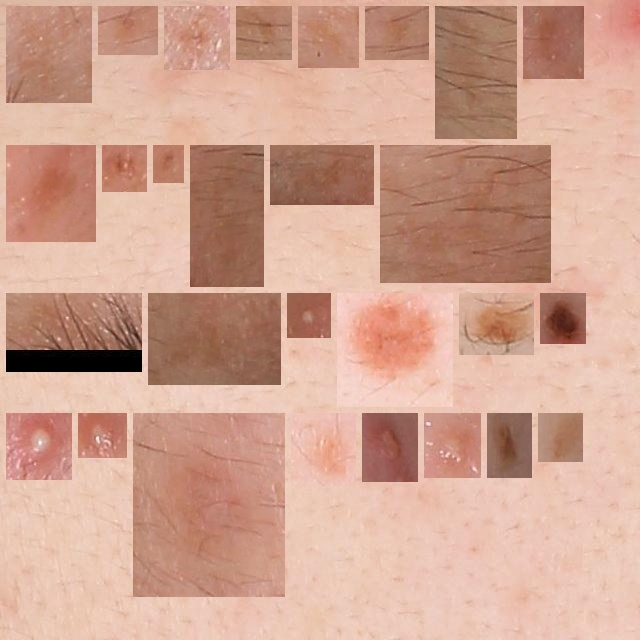melasma: (141, 421, 277, 589), (388, 153, 543, 275), (156, 301, 273, 377), (443, 14, 509, 131), (14, 301, 134, 364), (198, 153, 256, 279), (14, 153, 88, 234), (14, 14, 84, 95), (278, 153, 366, 197), (299, 421, 348, 478), (531, 14, 576, 71), (172, 14, 222, 62), (306, 14, 351, 60), (373, 14, 421, 52), (244, 14, 284, 52), (106, 14, 150, 47), (546, 421, 575, 454), (110, 153, 139, 184), (161, 153, 176, 175)
nevus: (345, 301, 445, 399), (467, 301, 526, 347), (495, 421, 524, 470), (548, 301, 578, 336)
pustule: (14, 421, 64, 472), (370, 421, 410, 474), (432, 421, 473, 470), (86, 421, 119, 450), (295, 301, 323, 330)
